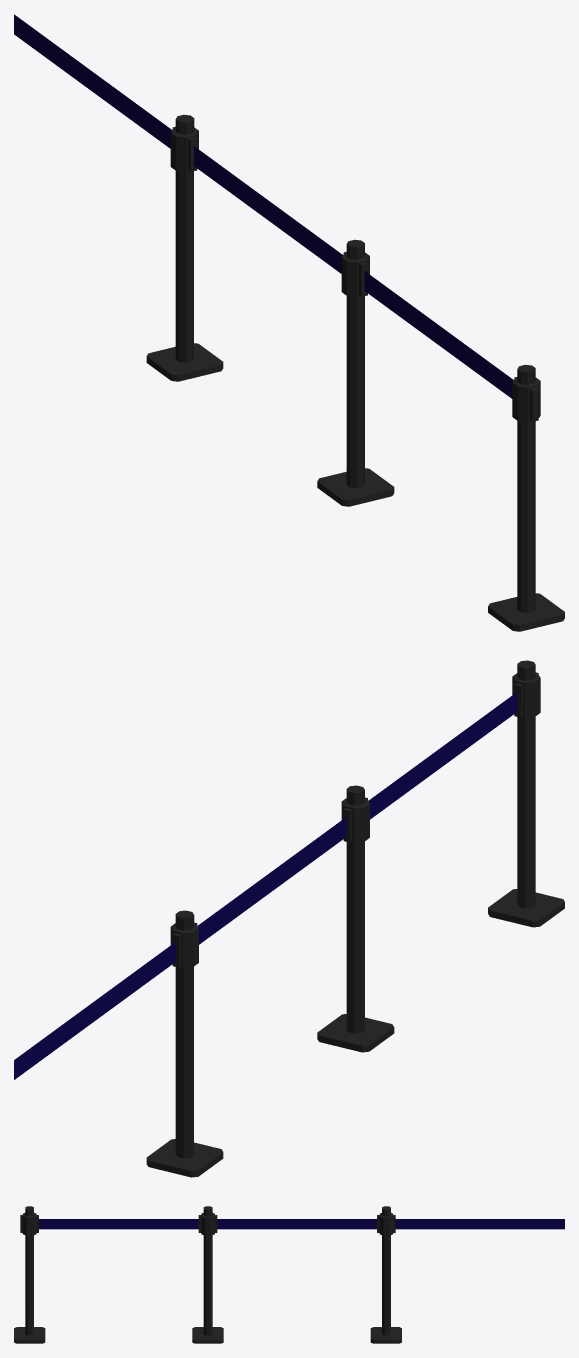
File: barrier 3 set.fbx
The picture shows the model from 3 angles, top to bottom: view 1: azimuth 30°, elevation 25°; view 2: azimuth 150°, elevation 25°; view 3: azimuth 270°, elevation 25°; orthographic projection. The views are drawn at different scales.
Visible parts, largest first — view 1: barrier pole.001, barrier pole.003, barrier pole.002, barrier rope.002, barrier rope, barrier rope.001; view 2: barrier pole.002, barrier pole.001, barrier pole.003, barrier rope.002, barrier rope, barrier rope.001; view 3: barrier pole.002, barrier rope.002, barrier pole.001, barrier pole.003, barrier rope, barrier rope.001.
Part boxes in pixels (bbox=[...]): barrier pole.001: bbox=[488, 364, 564, 631]; barrier pole.003: bbox=[146, 114, 223, 381]; barrier pole.002: bbox=[317, 239, 394, 506]; barrier rope.002: bbox=[14, 14, 171, 148]; barrier rope: bbox=[364, 271, 513, 398]; barrier rope.001: bbox=[194, 146, 342, 273]; barrier pole.002: bbox=[317, 785, 394, 1052]; barrier pole.001: bbox=[488, 660, 564, 927]; barrier pole.003: bbox=[146, 910, 223, 1177]; barrier rope.002: bbox=[14, 942, 175, 1079]; barrier rope: bbox=[368, 692, 517, 819]; barrier rope.001: bbox=[198, 817, 346, 944]; barrier pole.002: bbox=[192, 1206, 223, 1343]; barrier rope.002: bbox=[395, 1219, 564, 1229]; barrier pole.001: bbox=[14, 1206, 45, 1343]; barrier pole.003: bbox=[370, 1206, 401, 1343]; barrier rope: bbox=[39, 1219, 198, 1229]; barrier rope.001: bbox=[217, 1219, 376, 1229].
Size of the model in its own units: 52.74 by 239 by 927.
